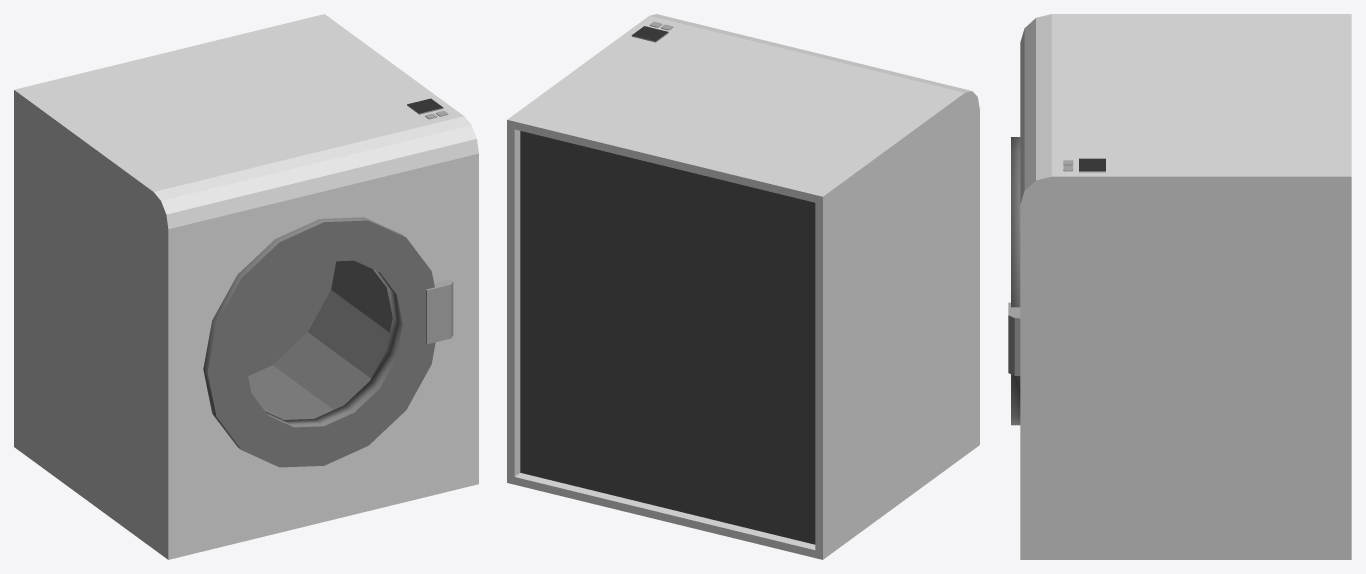
Rendered from washing_machine.glb.
3 renders of one model, left to right at view 1: azimuth 30°, elevation 25°; view 2: azimuth 150°, elevation 25°; view 3: azimuth 270°, elevation 25°, orthographic. The views are drawn at different scales.
Visible parts, largest first — view 1: Washing Machine, Washing Machine Ac; view 2: Washing Machine; view 3: Washing Machine, Washing Machine Ac.
Part boxes in pixels (x1,y1,x2,y2): Washing Machine: [14, 14, 478, 559]; Washing Machine Ac: [203, 217, 435, 467]; Washing Machine: [507, 14, 979, 559]; Washing Machine: [1008, 14, 1351, 559]; Washing Machine Ac: [1011, 137, 1020, 425].
Size of the model in its own units: 0.8636 by 0.9523 by 0.7699.
Materials: 2 (2 with a texture image).
